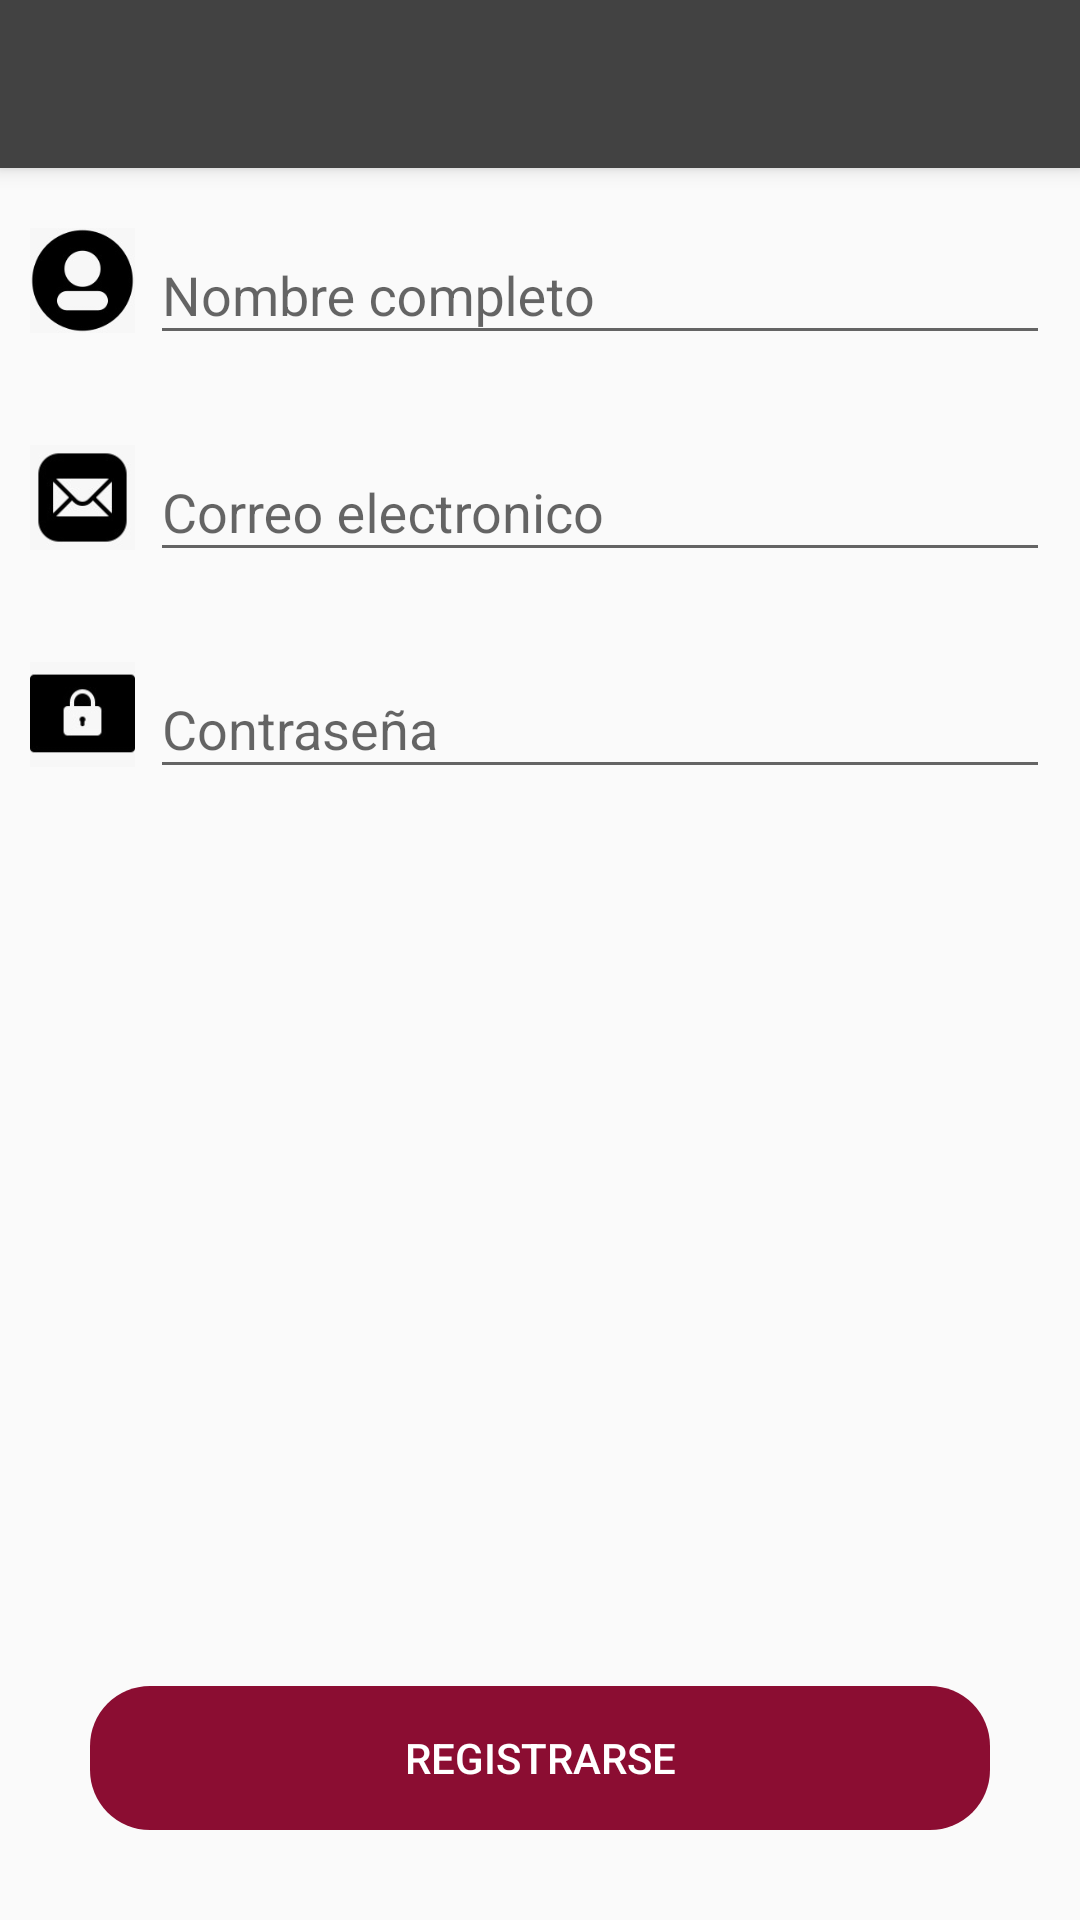

Screen size 1080px×1920px. Icon name, then its center in pixels as [x,y]:
candado: [82,713]
email: [82,497]
user: [82,280]
